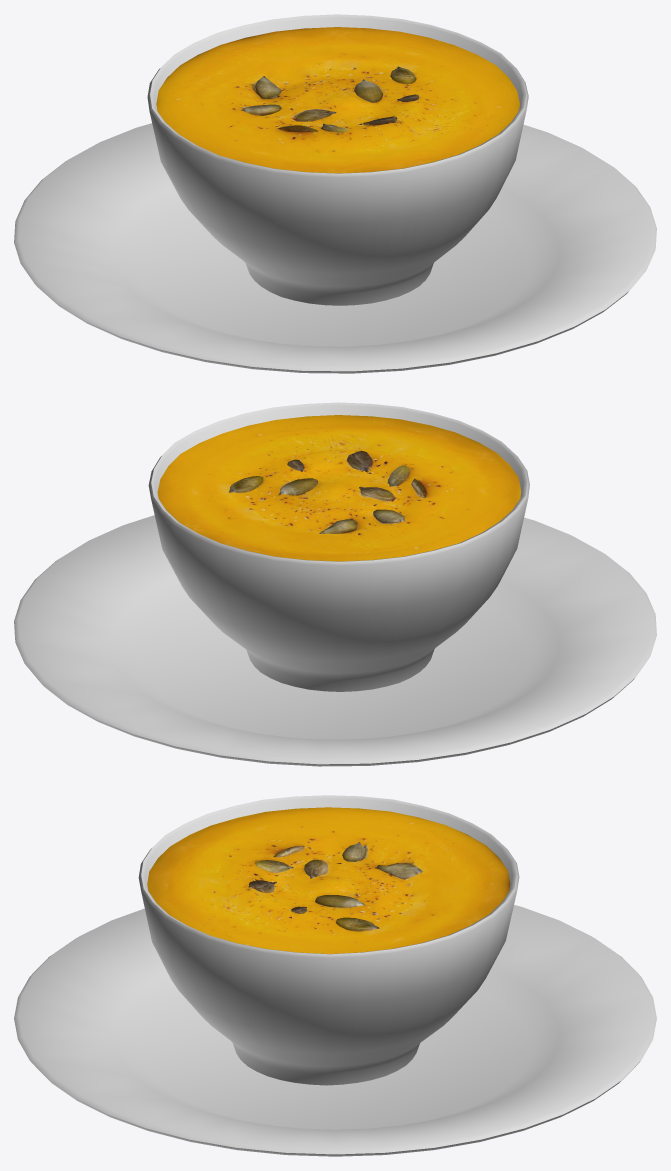
Rendered from PumpkinSoup_Separate.fbx.
3 renders of one model, top to bottom at view 1: azimuth 30°, elevation 25°; view 2: azimuth 150°, elevation 25°; view 3: azimuth 270°, elevation 25°, orthographic.
Parts seen in each view (by area): view 1: PumpkinSoupe_Separate; view 2: PumpkinSoupe_Separate; view 3: PumpkinSoupe_Separate.
Part boxes in pixels (x1,y1,x2,y2): PumpkinSoupe_Separate: [14, 14, 656, 373]; PumpkinSoupe_Separate: [14, 402, 656, 766]; PumpkinSoupe_Separate: [14, 795, 656, 1156].
Bounding box in the file's own units: 27.95 × 9.25 × 27.95.
